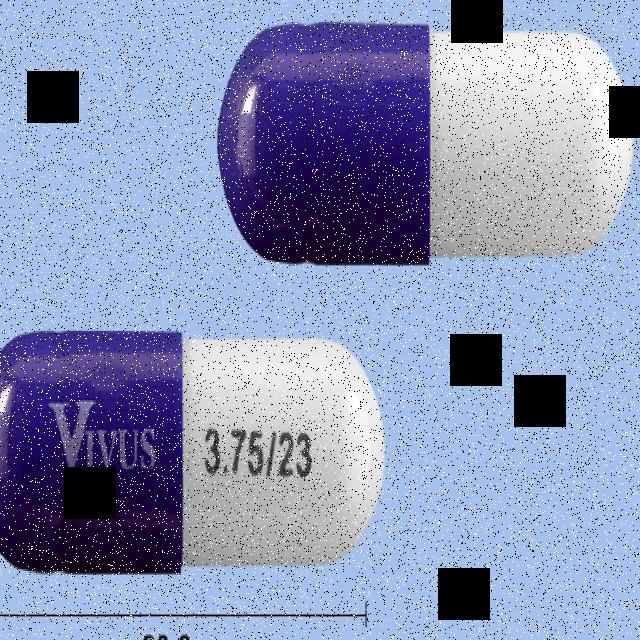Qsymia Cap-3-75mg: (0, 325, 384, 576)
